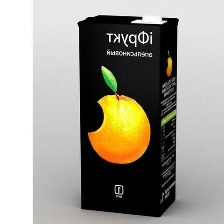carton: (70, 9, 182, 218)
